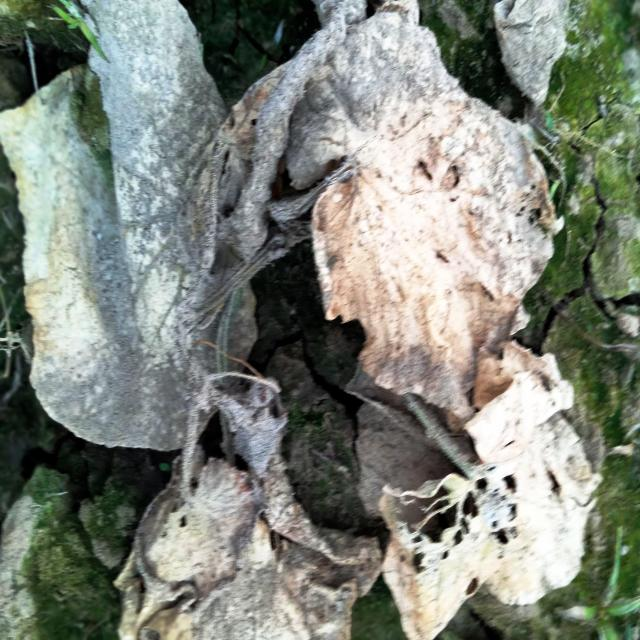Bacterial-Wilt: (0, 0, 367, 453), (285, 0, 558, 421), (114, 448, 383, 639)
